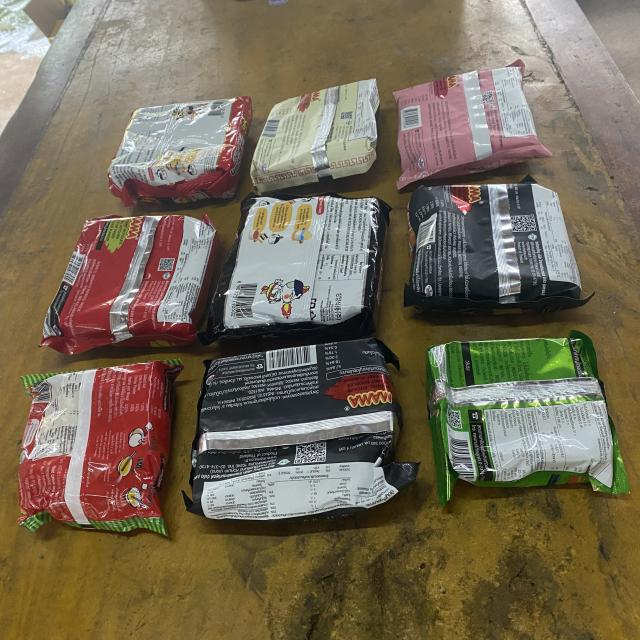plastik: (184, 339, 419, 520), (426, 331, 629, 505), (19, 361, 182, 534), (41, 215, 216, 354), (405, 178, 581, 312), (224, 196, 376, 330), (394, 60, 551, 189), (109, 96, 252, 206), (250, 79, 380, 192)
